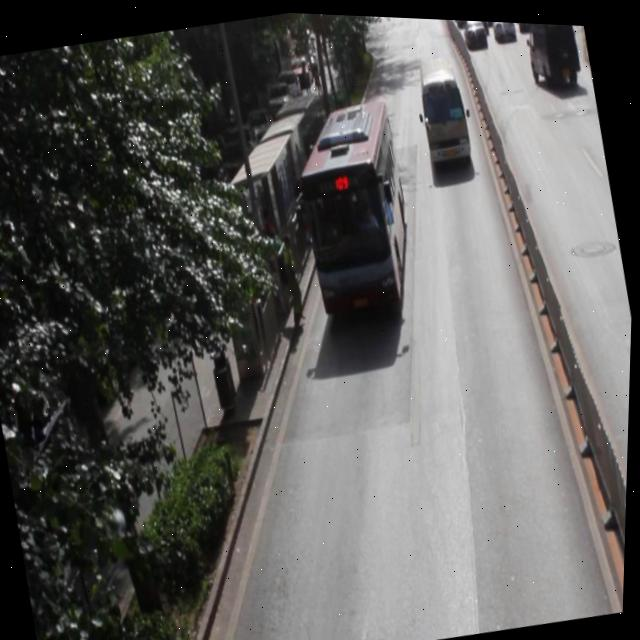truck: (414, 63, 475, 169), (519, 18, 583, 84)
van: (284, 95, 425, 322)
